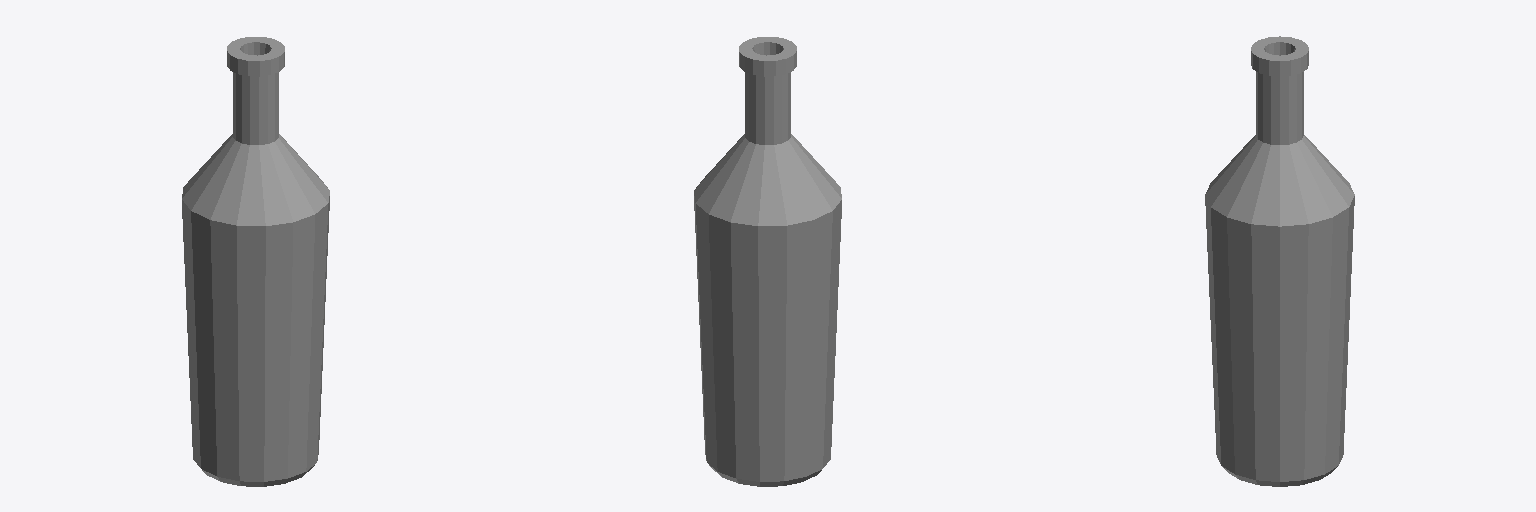
File: bottle.obj
3 renders of one model, left to right at view 1: azimuth 30°, elevation 25°; view 2: azimuth 150°, elevation 25°; view 3: azimuth 270°, elevation 25°, orthographic.
Visible parts, largest first — view 1: bottle_Circle.001; view 2: bottle_Circle.001; view 3: bottle_Circle.001.
Boxes of the visible parts, x1=… form: bottle_Circle.001: x1=182, y1=37, x2=329, y2=486; bottle_Circle.001: x1=694, y1=37, x2=841, y2=486; bottle_Circle.001: x1=1205, y1=36, x2=1354, y2=486.
Bounding box in the file's own units: 1.2 × 3.66 × 1.2.